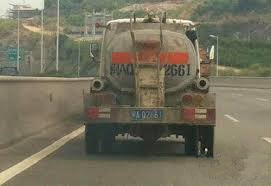smoke: (55, 102, 85, 156)
